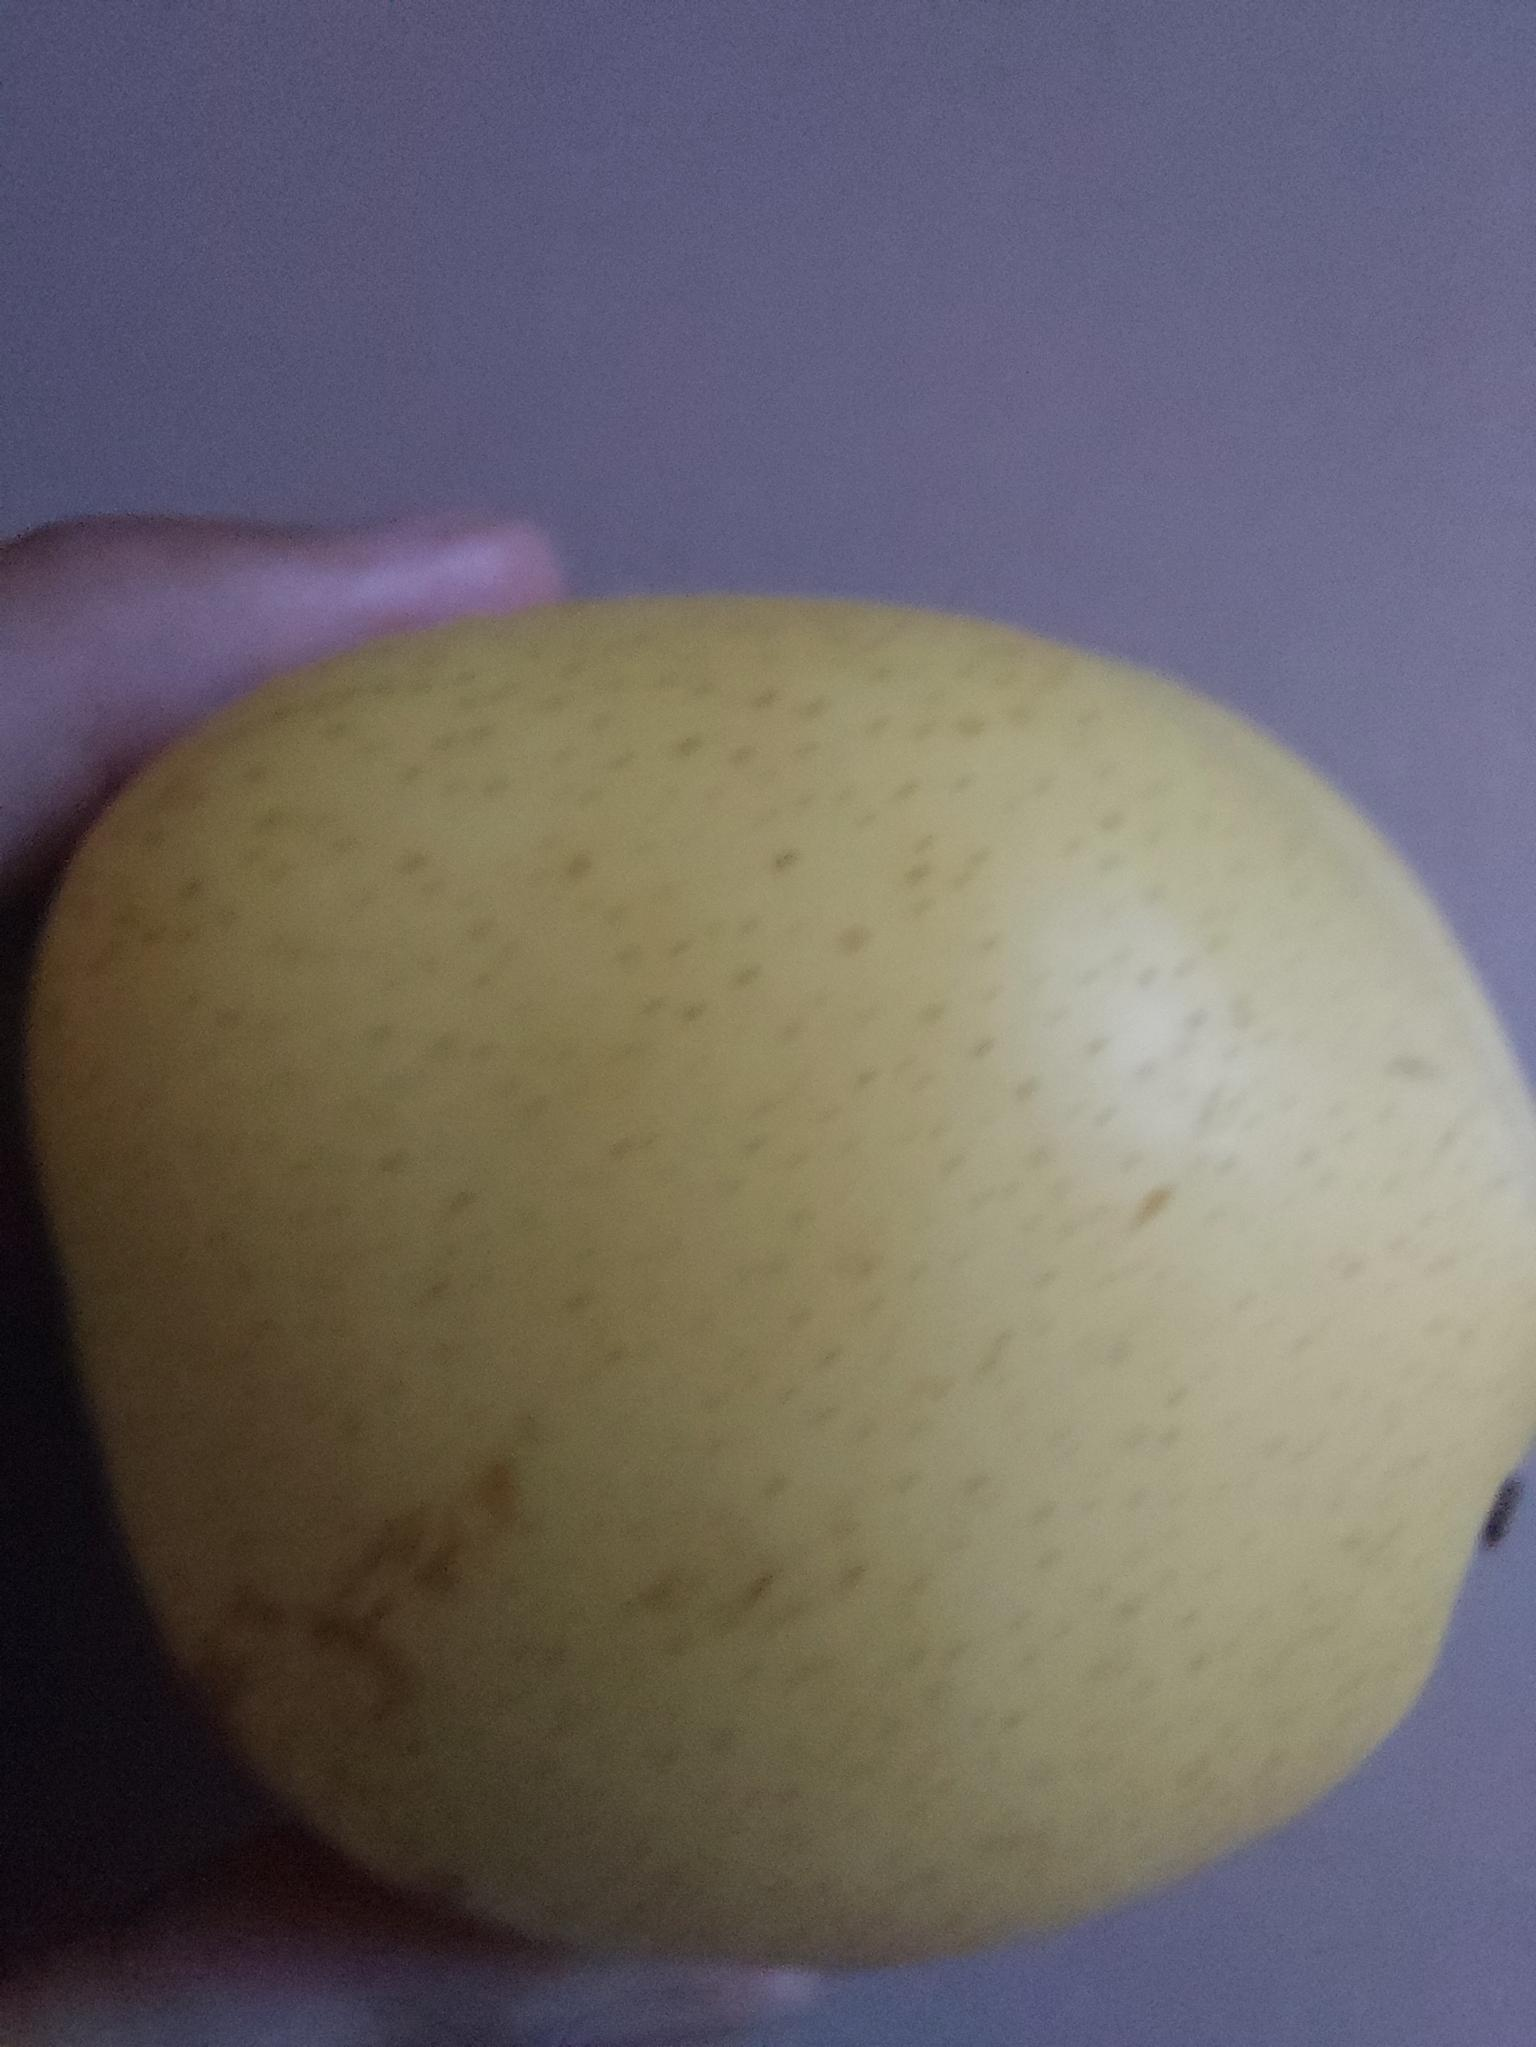Good Pear: (36, 590, 1512, 1968)
